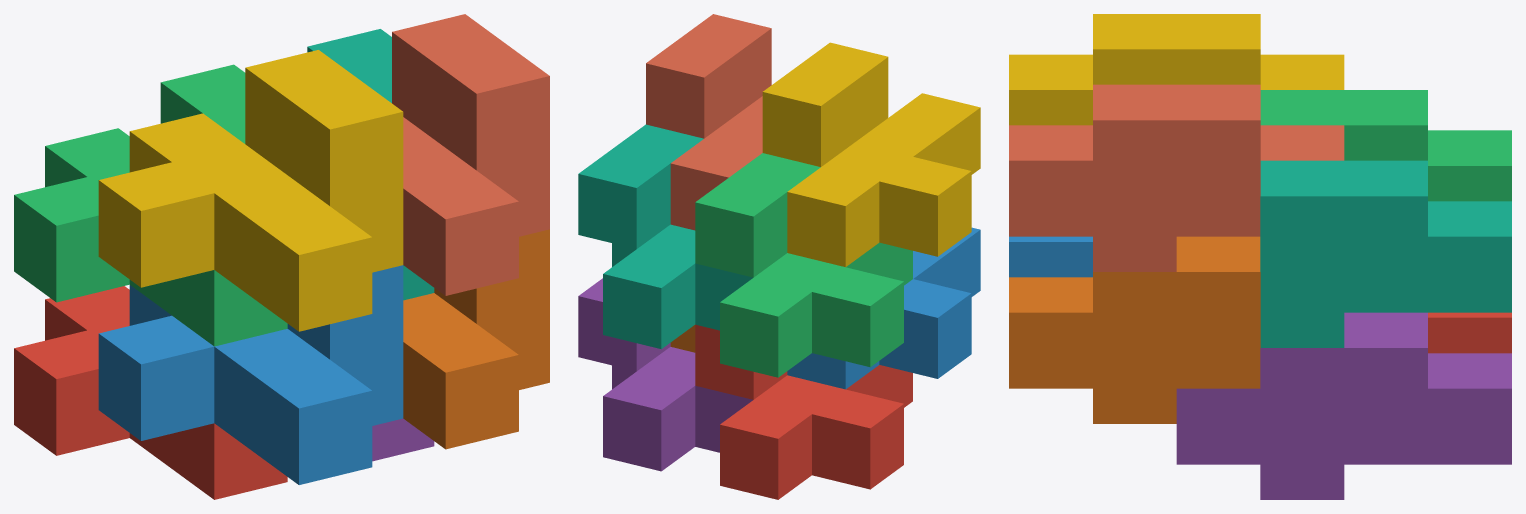
Rendered from tiling.obj.
3 renders of one model, left to right at view 1: azimuth 30°, elevation 25°; view 2: azimuth 150°, elevation 25°; view 3: azimuth 270°, elevation 25°, orthographic. The views are drawn at different scales.
Parts seen in each view (by area): view 1: copy_1_domain_4, copy_1_domain_2, copy_1_domain_8, copy_1_domain_3, copy_1_domain_6, copy_1_domain_1, copy_1_domain_7, copy_1_domain_5; view 2: copy_1_domain_4, copy_1_domain_3, copy_1_domain_1, copy_1_domain_7, copy_1_domain_8, copy_1_domain_5, copy_1_domain_2; view 3: copy_1_domain_5, copy_1_domain_8, copy_1_domain_7, copy_1_domain_6, copy_1_domain_4, copy_1_domain_3, copy_1_domain_1, copy_1_domain_2.
Part boxes in pixels (x1,y1,x2,y2): copy_1_domain_4: (98,50,403,331); copy_1_domain_2: (98,265,403,484); copy_1_domain_8: (392,14,549,295); copy_1_domain_3: (14,64,287,346); copy_1_domain_6: (403,229,549,449); copy_1_domain_1: (14,286,287,499); copy_1_domain_7: (307,29,434,300); copy_1_domain_5: (372,418,434,461); copy_1_domain_4: (762,42,980,267); copy_1_domain_3: (695,153,912,377); copy_1_domain_1: (695,324,912,499); copy_1_domain_7: (578,124,752,349); copy_1_domain_8: (646,14,771,230); copy_1_domain_5: (578,278,752,471); copy_1_domain_2: (787,227,980,389); copy_1_domain_5: (1176,312,1511,499); copy_1_domain_8: (1009,84,1344,271); copy_1_domain_7: (1260,160,1511,347); copy_1_domain_6: (1009,236,1260,423); copy_1_domain_4: (1009,14,1344,125); copy_1_domain_3: (1260,90,1511,201); copy_1_domain_1: (1428,312,1511,353); copy_1_domain_2: (1009,236,1092,277).
Size of the model in its own units: 5 by 5 by 6.
